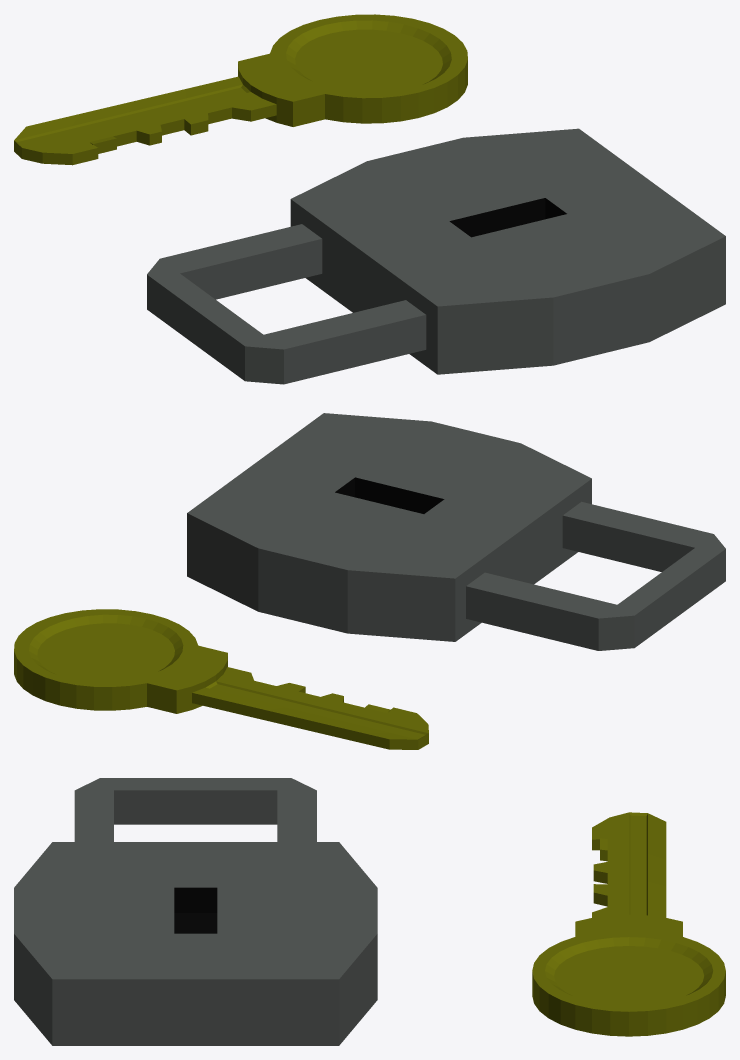
The model's file is lowpolylockandkey.fbx.
3 views of the same model, one above another, from view 1: azimuth 30°, elevation 25°; view 2: azimuth 150°, elevation 25°; view 3: azimuth 270°, elevation 25° (orthographic). The views are drawn at different scales.
Parts seen in each view (by area): view 1: Lock, Key; view 2: Lock, Key; view 3: Lock, Key.
Part boxes in pixels (<box>): Lock: <box>147,128,725,384</box>; Key: <box>14,14,467,165</box>; Lock: <box>187,413,725,650</box>; Key: <box>14,609,428,749</box>; Lock: <box>14,778,377,1045</box>; Key: <box>532,812,725,1036</box>.
Size of the model in its own units: 223 by 30.26 by 293.
